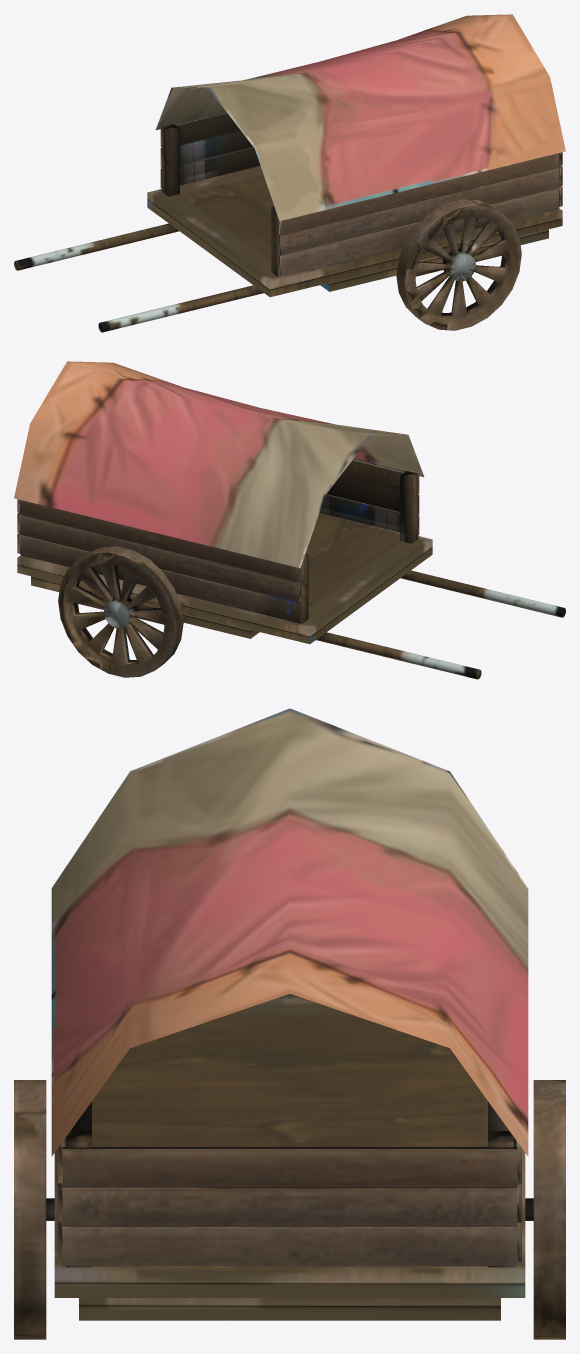
Rendered from Wagonfbx.fbx.
3 views of the same model, one above another, from view 1: azimuth 30°, elevation 25°; view 2: azimuth 150°, elevation 25°; view 3: azimuth 270°, elevation 25° (orthographic). The views are drawn at different scales.
Parts seen in each view (by area): view 1: RR_Cart_Cover_001, RR_Cart_002, RR_Cart_Wheel_001, RR_Cart_SideBoards_004, RR_Cart_SideBoards_001, RR_Cart_SideBoards_006, RR_Cart_Pole_002, RR_Cart_Pole_001, RR_Cart_SideBoards_002, RR_Cart_SideBoards_003, RR_Cart_Post_005, RR_Cart_SideBoards_005 (+2 smaller); view 2: RR_Cart_Cover_001, RR_Cart_002, RR_Cart_Wheel_002, RR_Cart_SideBoards_003, RR_Cart_SideBoards_002, RR_Cart_SideBoards_005, RR_Cart_Pole_001, RR_Cart_Pole_002, RR_Cart_SideBoards_001, RR_Cart_SideBoards_004, RR_Cart_Post_006, RR_Cart_SideBoards_006 (+2 smaller); view 3: RR_Cart_Cover_001, RR_Cart_002, RR_Cart_BackBoards_003, RR_Cart_BackBoards_001, RR_Cart_BackBoards_002, RR_Cart_001, RR_Cart_Wheel_001, RR_Cart_Wheel_002.
Boxes of the visible parts, left/top/right/bottom form: RR_Cart_Cover_001: left=155, top=14, right=565, bottom=221; RR_Cart_002: left=147, top=166, right=562, bottom=297; RR_Cart_Wheel_001: left=396, top=199, right=521, bottom=330; RR_Cart_SideBoards_004: left=279, top=168, right=559, bottom=255; RR_Cart_SideBoards_001: left=279, top=188, right=559, bottom=275; RR_Cart_SideBoards_006: left=279, top=153, right=559, bottom=235; RR_Cart_Pole_002: left=14, top=223, right=179, bottom=270; RR_Cart_Pole_001: left=98, top=285, right=263, bottom=332; RR_Cart_SideBoards_002: left=160, top=147, right=260, bottom=188; RR_Cart_SideBoards_003: left=160, top=130, right=252, bottom=167; RR_Cart_Post_005: left=161, top=124, right=179, bottom=196; RR_Cart_SideBoards_005: left=160, top=112, right=239, bottom=147; RR_Cart_Cover_001: left=14, top=361, right=424, bottom=568; RR_Cart_002: left=17, top=513, right=432, bottom=644; RR_Cart_Wheel_002: left=58, top=546, right=183, bottom=677; RR_Cart_SideBoards_003: left=20, top=515, right=300, bottom=602; RR_Cart_SideBoards_002: left=20, top=535, right=300, bottom=622; RR_Cart_SideBoards_005: left=20, top=500, right=300, bottom=582; RR_Cart_Pole_001: left=400, top=570, right=565, bottom=617; RR_Cart_Pole_002: left=316, top=632, right=481, bottom=679; RR_Cart_SideBoards_001: left=319, top=494, right=419, bottom=535; RR_Cart_SideBoards_004: left=327, top=477, right=419, bottom=514; RR_Cart_Post_006: left=400, top=471, right=418, bottom=543; RR_Cart_SideBoards_006: left=340, top=459, right=419, bottom=494; RR_Cart_Cover_001: left=51, top=708, right=528, bottom=1156; RR_Cart_002: left=54, top=994, right=525, bottom=1297; RR_Cart_BackBoards_003: left=62, top=1147, right=517, bottom=1187; RR_Cart_BackBoards_001: left=62, top=1227, right=517, bottom=1266; RR_Cart_BackBoards_002: left=62, top=1187, right=517, bottom=1226; RR_Cart_001: left=79, top=1298, right=500, bottom=1320; RR_Cart_Wheel_001: left=14, top=1080, right=533, bottom=1339; RR_Cart_Wheel_002: left=533, top=1080, right=565, bottom=1339.
Size of the model in its own units: 244 by 119 by 134.
8 materials, 8 textured.
